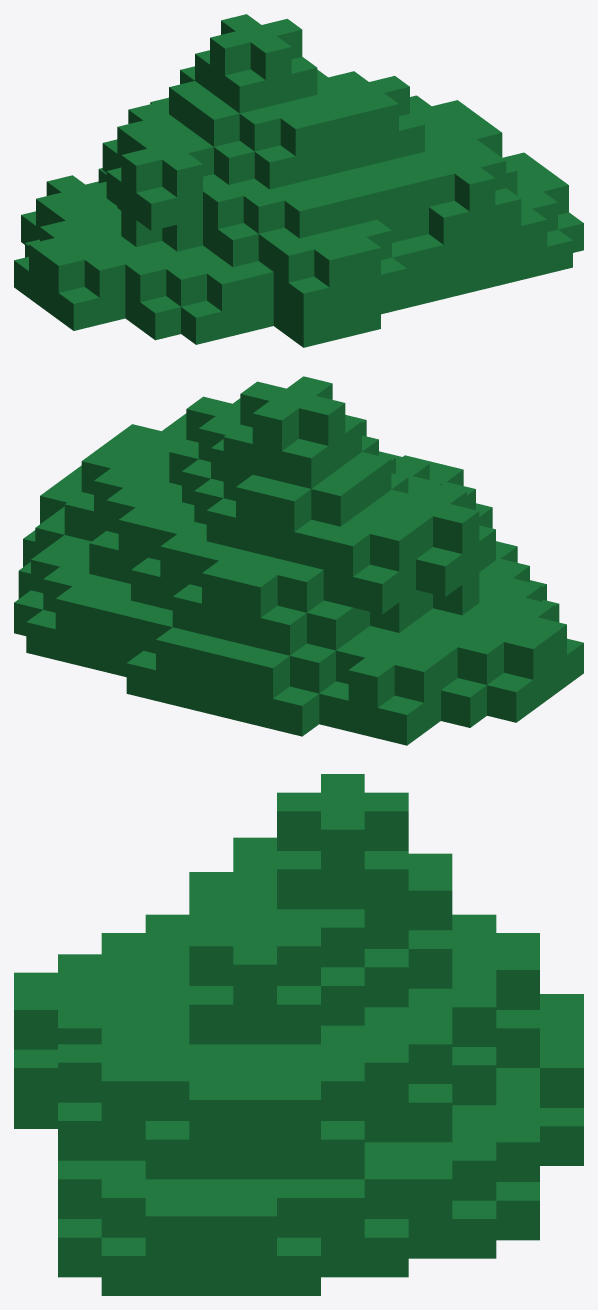
Rendered from arbusto_pequeño_02.fbx.
3 renders of one model, top to bottom at view 1: azimuth 30°, elevation 25°; view 2: azimuth 150°, elevation 25°; view 3: azimuth 270°, elevation 25°, orthographic. The views are drawn at different scales.
Parts seen in each view (by area): view 1: arbusto_Pequeño02; view 2: arbusto_Pequeño02; view 3: arbusto_Pequeño02.
Boxes of the visible parts, left/top/right/bottom form: arbusto_Pequeño02: left=14, top=14, right=583, bottom=347; arbusto_Pequeño02: left=14, top=376, right=583, bottom=745; arbusto_Pequeño02: left=14, top=774, right=583, bottom=1295.
Bounding box in the file's own units: 180 × 80 × 130.
Materials: 1 (1 with a texture image).
